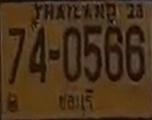0: (62, 27, 80, 80)
4: (28, 26, 46, 82)
5: (83, 25, 101, 81)
6: (125, 24, 144, 80), (103, 26, 122, 80)
7: (8, 27, 25, 82)
CBI: (55, 88, 97, 116)
